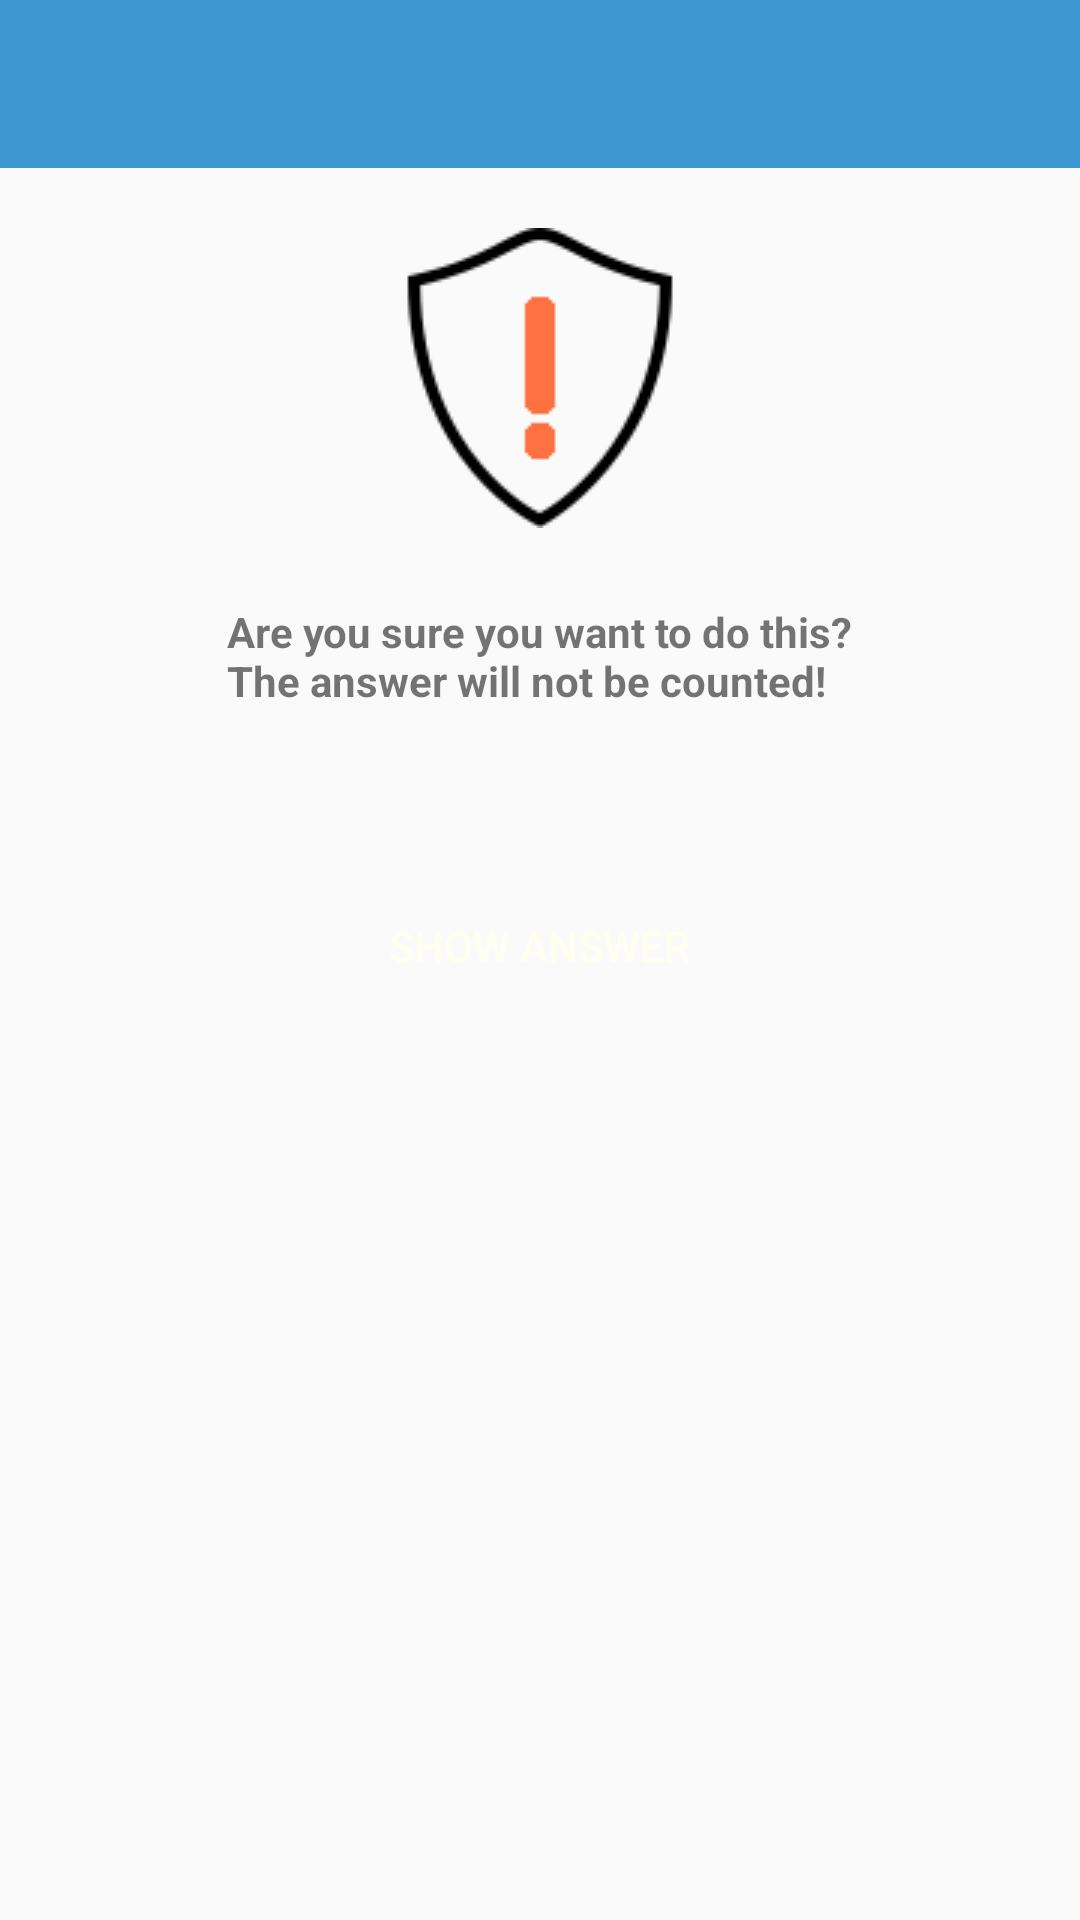

Named icons in this screenshot (1080 x 1920) and their centers, [x,y]:
Warning: [540,378]
